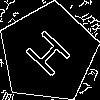H: (23, 28, 80, 85)
